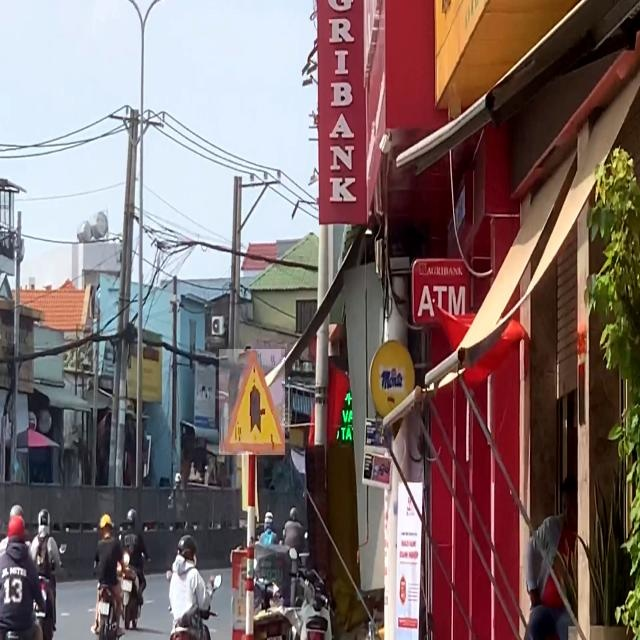bien_nguy_hiem: (219, 349, 285, 455)
